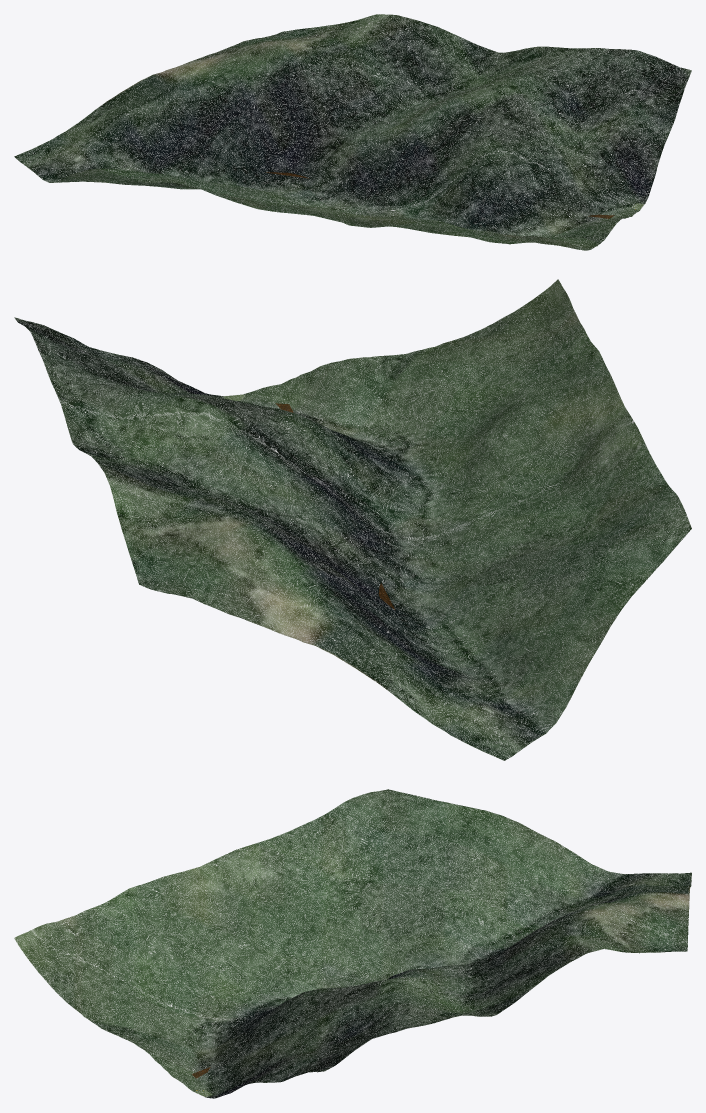
File: curva16a.dae
The picture shows the model from 3 angles, top to bottom: view 1: azimuth 30°, elevation 25°; view 2: azimuth 150°, elevation 25°; view 3: azimuth 270°, elevation 25°; orthographic projection. The views are drawn at different scales.
Visible parts, largest first — view 1: SketchUp; view 2: SketchUp; view 3: SketchUp.
Part boxes in pixels (<box>): SketchUp: <box>14,14,691,250</box>; SketchUp: <box>14,279,691,760</box>; SketchUp: <box>14,789,691,1098</box>.
Bounding box in the file's own units: 60599 × 60037 × 10641.
7 materials, 1 textured.
